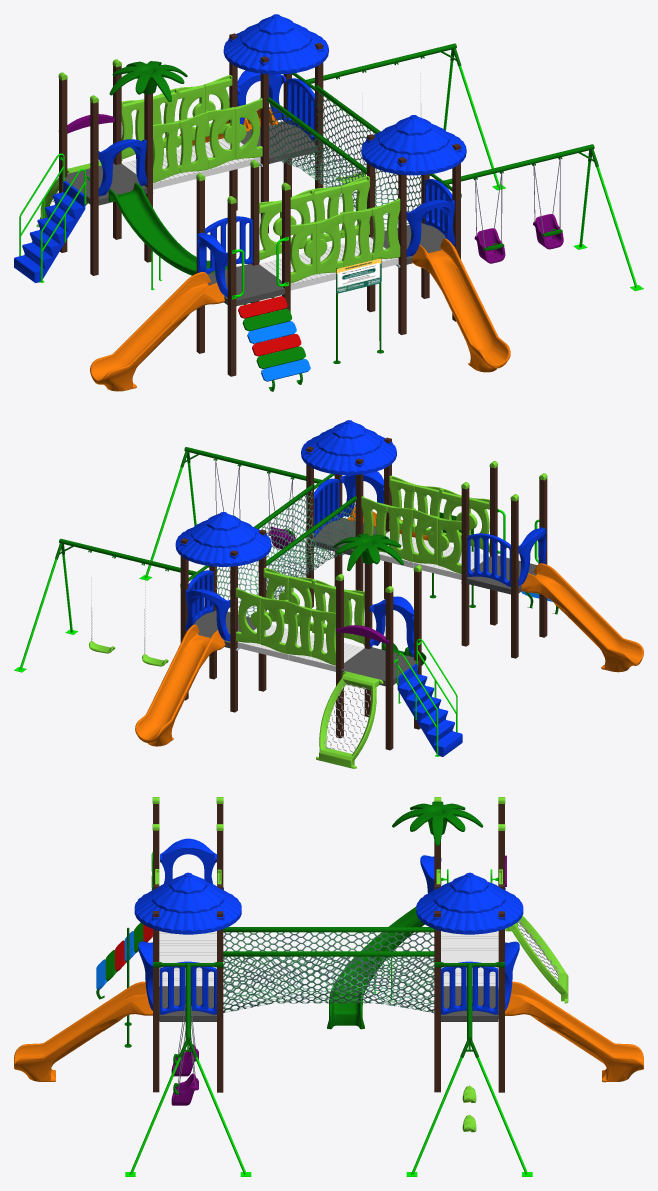
3 renders of one model, top to bottom at view 1: azimuth 30°, elevation 25°; view 2: azimuth 150°, elevation 25°; view 3: azimuth 270°, elevation 25°, orthographic. The views are drawn at different scales.
Parts seen in each view (by area): view 1: object 8, object 38, RAMPA DE AGARRA.003, PRANCHA.001, COLUNA MAD PLAST 9 X 9CM.025, PLATAFORMA M1.008, COLUNA MAD PLAST 9 X 9CM.007, PASSARELA FIXA 2M M3.001, PLATAFORMA M1.004, COLUNA MAD PLAST 9 X 9CM.019, LATERAL M4.007, LATERAL M4 (+38 smaller); view 2: object 8, object 38, PLATAFORMA M1.001, PASSARELA FIXA 2M M3.001, COLUNA MAD PLAST 9 X 9CM.008, COLUNA MAD PLAST 9 X 9CM.024, COLUNA MAD PLAST 9 X 9CM.026, LATERAL M4.005, COLUNA MAD PLAST 9 X 9CM.014, LATERAL M3.005, COLUNA MAD PLAST 9 X 9CM.006, LATERAL M4.004 (+34 smaller); view 3: object 8, object 38, PASSARELA FIXA 2M M3.001, PASSARELA FIXA 2M M3, FECHAMENTO M1.003, FECHAMENTO M1.001, PORTAL M4.003, COLUNA MAD PLAST 9 X 9CM.015, COLUNA MAD PLAST 9 X 9CM.012, COLUNA MAD PLAST 9 X 9CM.018, COLUNA MAD PLAST 9 X 9CM.021, PLATAFORMA M1.004 (+9 smaller).
Part boxes in pixels (bbox=[...]): object 8: bbox=[14, 14, 510, 391]; object 38: bbox=[267, 84, 422, 228]; RAMPA DE AGARRA.003: bbox=[242, 297, 310, 391]; PRANCHA.001: bbox=[238, 296, 305, 368]; COLUNA MAD PLAST 9 X 9CM.025: bbox=[227, 202, 236, 376]; PLATAFORMA M1.008: bbox=[207, 264, 284, 306]; COLUNA MAD PLAST 9 X 9CM.007: bbox=[90, 102, 98, 275]; PASSARELA FIXA 2M M3.001: bbox=[121, 138, 262, 193]; PLATAFORMA M1.004: bbox=[240, 121, 317, 163]; COLUNA MAD PLAST 9 X 9CM.019: bbox=[398, 157, 406, 334]; LATERAL M4.007: bbox=[178, 110, 208, 172]; LATERAL M4: bbox=[370, 198, 400, 260]; object 8: bbox=[135, 420, 643, 768]; object 38: bbox=[215, 483, 357, 617]; PLATAFORMA M1.001: bbox=[341, 647, 418, 686]; PASSARELA FIXA 2M M3.001: bbox=[236, 625, 364, 671]; COLUNA MAD PLAST 9 X 9CM.008: bbox=[385, 591, 393, 750]; COLUNA MAD PLAST 9 X 9CM.024: bbox=[461, 488, 469, 646]; COLUNA MAD PLAST 9 X 9CM.026: bbox=[511, 500, 518, 658]; LATERAL M4.005: bbox=[285, 600, 312, 656]; COLUNA MAD PLAST 9 X 9CM.014: bbox=[230, 550, 237, 712]; LATERAL M3.005: bbox=[260, 597, 286, 653]; COLUNA MAD PLAST 9 X 9CM.006: bbox=[336, 579, 343, 738]; LATERAL M4.004: bbox=[311, 609, 335, 665]; object 8: bbox=[14, 801, 643, 1082]; object 38: bbox=[223, 927, 434, 1013]; PASSARELA FIXA 2M M3.001: bbox=[441, 931, 498, 988]; PASSARELA FIXA 2M M3: bbox=[159, 931, 216, 986]; FECHAMENTO M1.003: bbox=[159, 961, 216, 1014]; FECHAMENTO M1.001: bbox=[441, 961, 498, 1014]; PORTAL M4.003: bbox=[160, 838, 216, 883]; COLUNA MAD PLAST 9 X 9CM.015: bbox=[434, 911, 440, 1092]; COLUNA MAD PLAST 9 X 9CM.012: bbox=[498, 911, 504, 1092]; COLUNA MAD PLAST 9 X 9CM.018: bbox=[217, 911, 223, 1092]; COLUNA MAD PLAST 9 X 9CM.021: bbox=[153, 911, 159, 1092]; PLATAFORMA M1.004: bbox=[441, 986, 498, 1021].
Bounding box in the file's own units: 8.68 × 3.21 × 8.96.
Materials: 41 (5 with a texture image).
